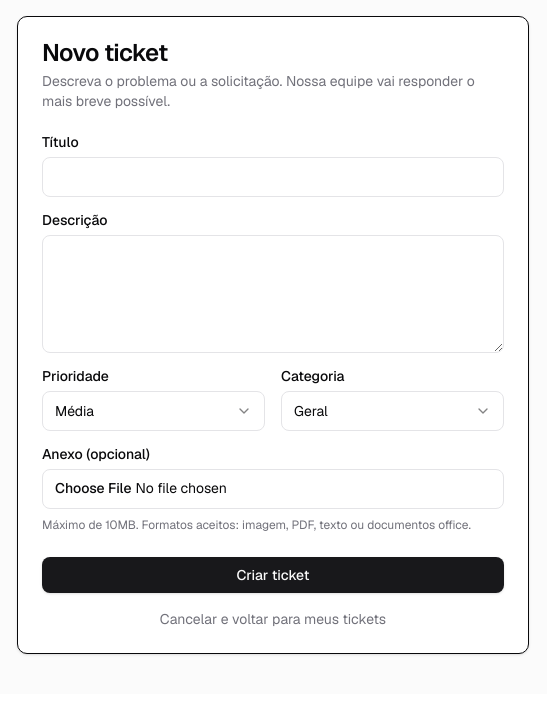
Test: NovoTicketPage (SPEC-06) › exibe erro de validação e não submete quando o título está vazio (RF04)
Type "Descrição válida preenchida." into the text box labelled "Descrição" at (273, 294), box [42,235,504,353]
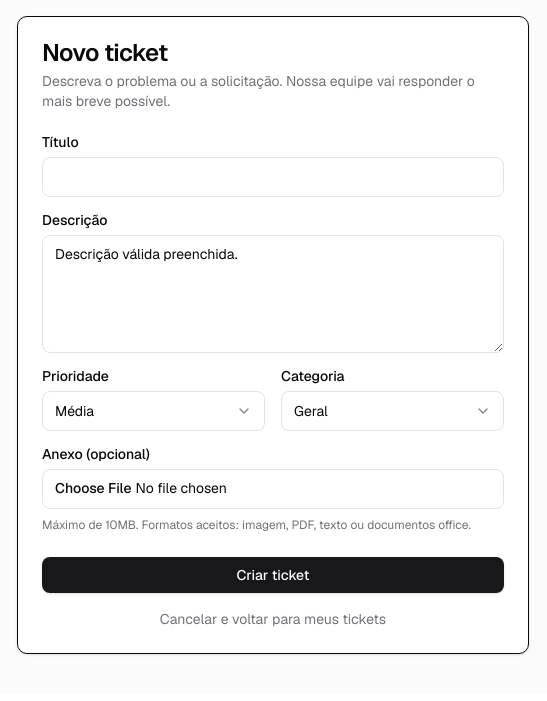
Click the button "Criar ticket" at (273, 575), box [42,557,504,593]
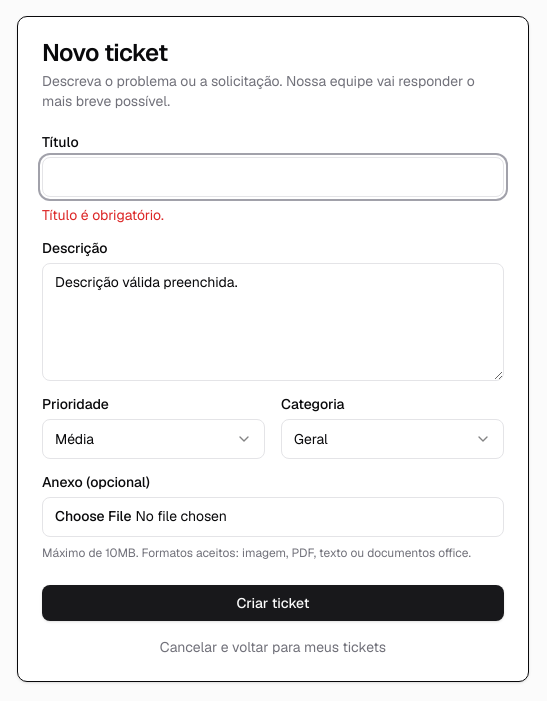
Expected: the message shows "Título é obrigatório", [42,206,164,224]
